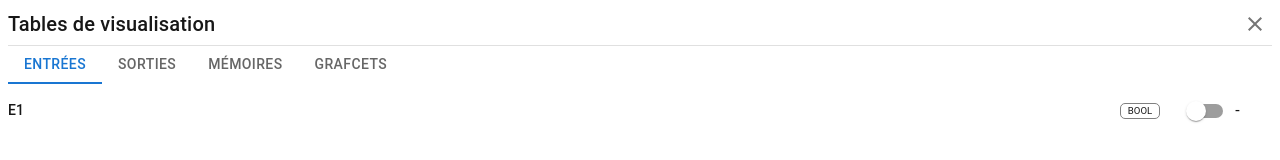
Test: WatchTables › switches to the memory variables tab
Step 1. Click the tab "Mémoires" → (245, 70), box top-left (192, 54), bottom-right (299, 86)
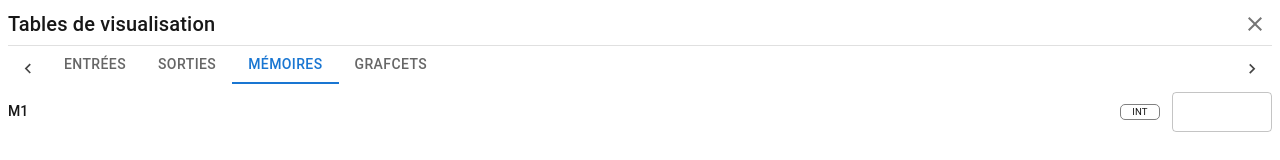
Check: the heading "M1" is shown, box top-left (8, 103), bottom-right (28, 119)
